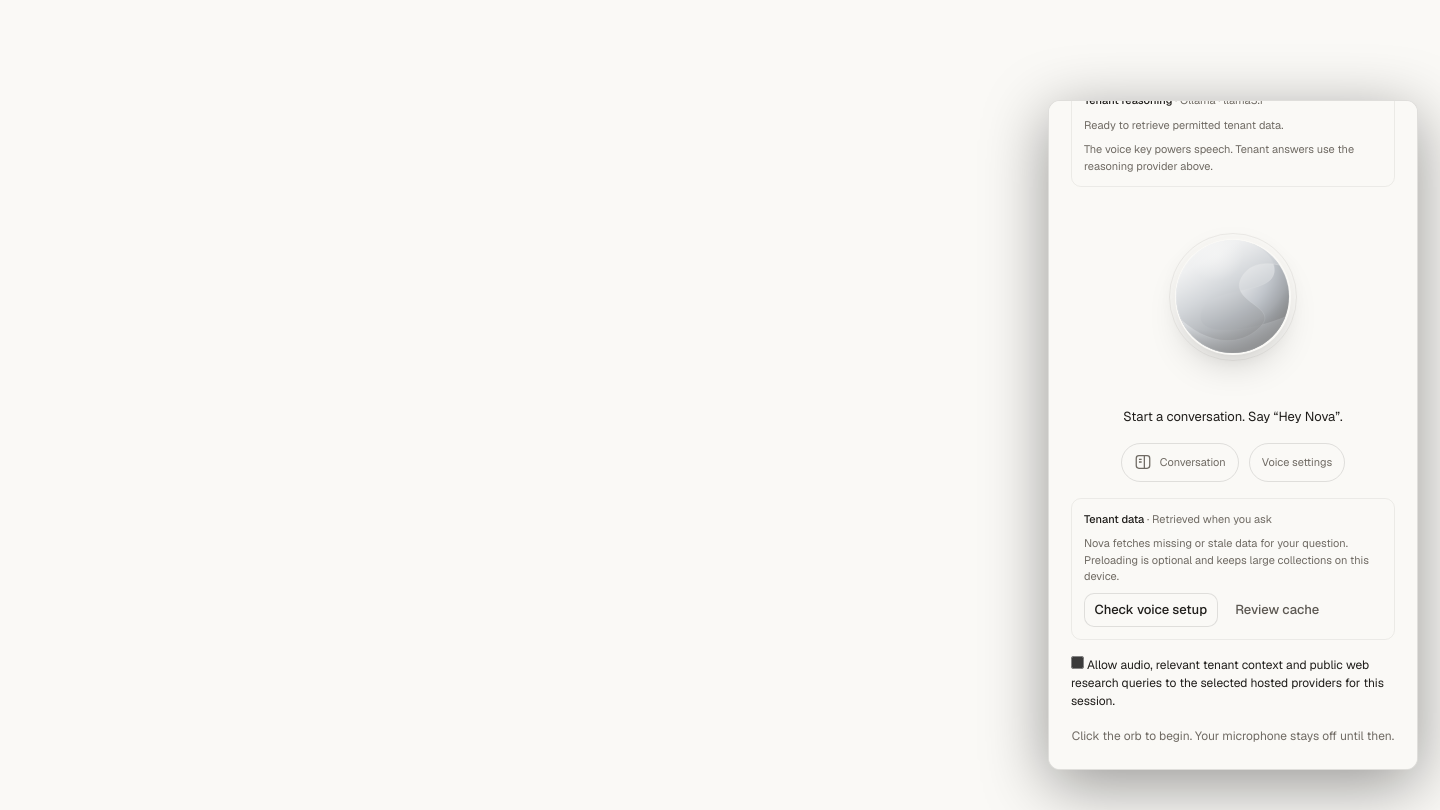
Scenario: explains microphone permission recovery without starting a hosted session
The width and height of the screenshot is (1440, 810).
(page scrolled)
Click the checkbox at (1078, 662), box [1071,656,1084,668]
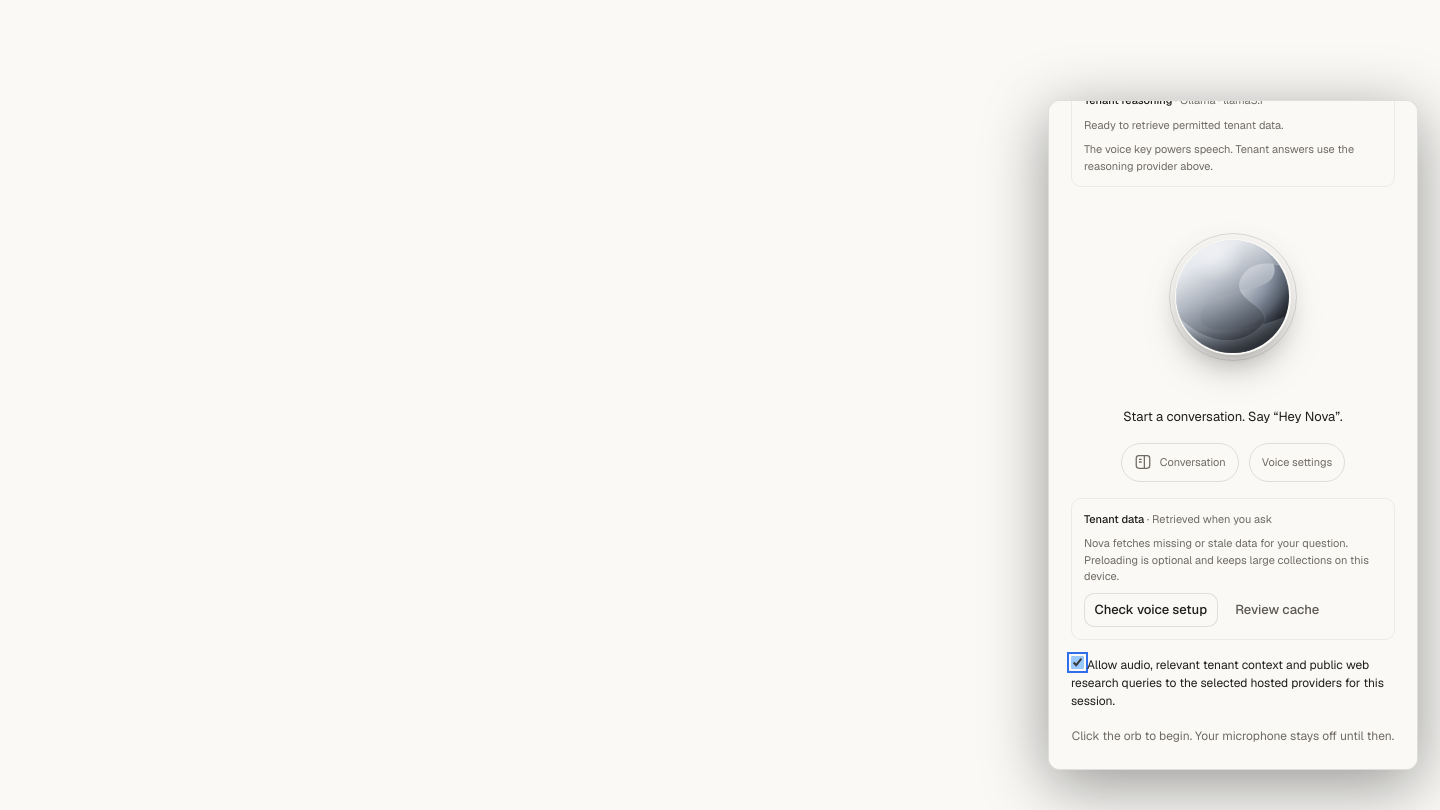
Click the button named "Start Nova" at (1233, 297), box [1169,233,1297,361]
(page scrolled)
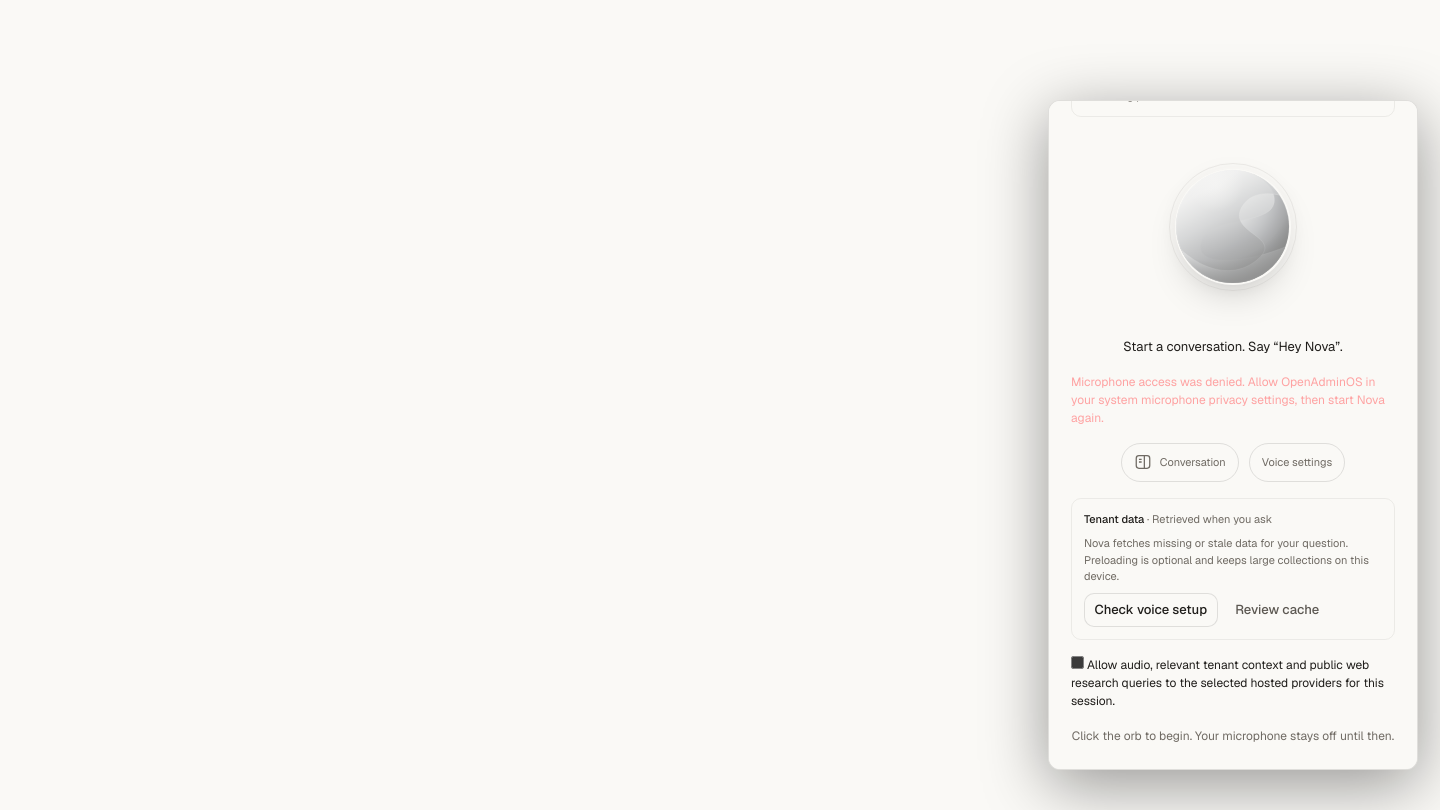
Result: the 2nd message shows "system microphone privacy settings" at [1071,374,1385,426]
Result: the checkbox is not checked at [1071,656,1084,668]
